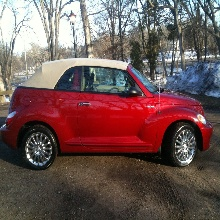no damage: (1, 58, 213, 169)
